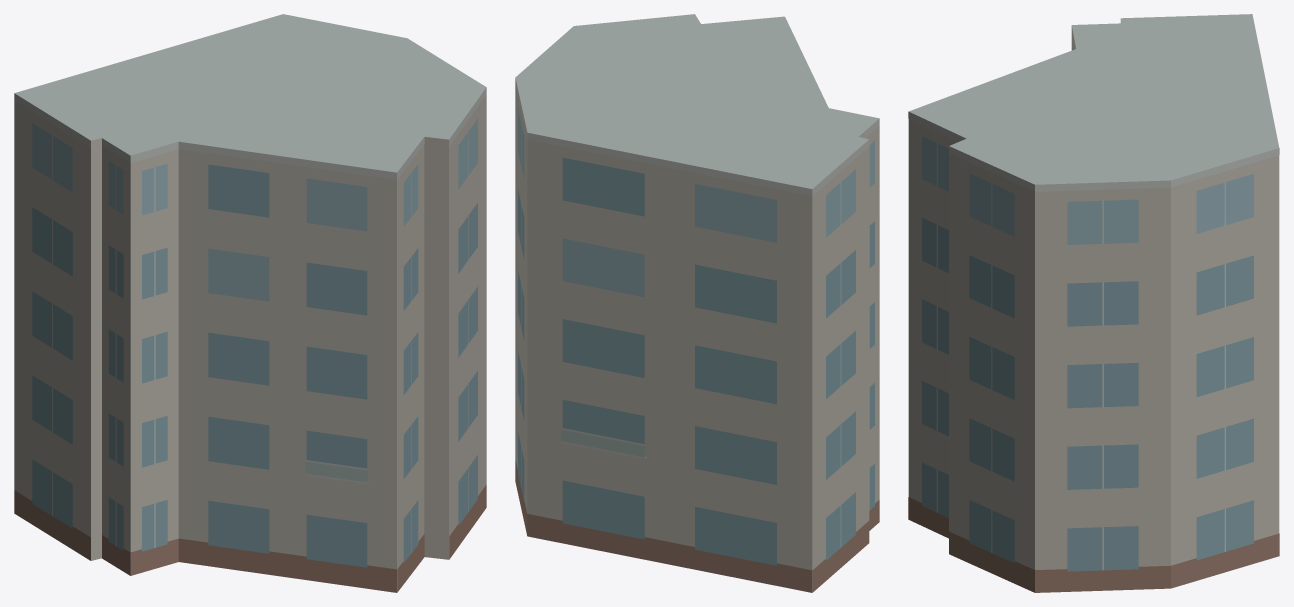
Rendered from survey-upis-32722503.glb.
3 views of the same model, side by side, from view 1: azimuth 30°, elevation 25°; view 2: azimuth 150°, elevation 25°; view 3: azimuth 270°, elevation 25° (orthographic). The views are drawn at different scales.
Visible parts, largest first — view 1: survey-upis-32722503.tmp; view 2: survey-upis-32722503.tmp; view 3: survey-upis-32722503.tmp.
Boxes of the visible parts, box(x1,y1,x2,y2) form: survey-upis-32722503.tmp: box(14, 14, 486, 592); survey-upis-32722503.tmp: box(515, 14, 879, 592); survey-upis-32722503.tmp: box(908, 14, 1279, 592).
Size of the model in its own units: 12.57 by 14 by 11.54.
